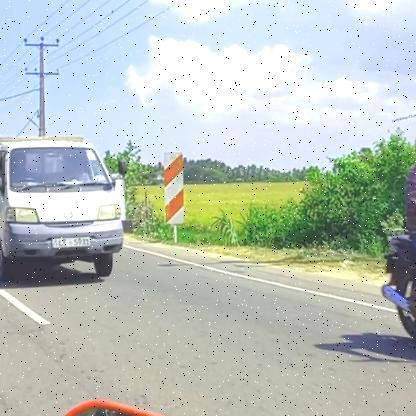motorcycle: (376, 209, 416, 378)
